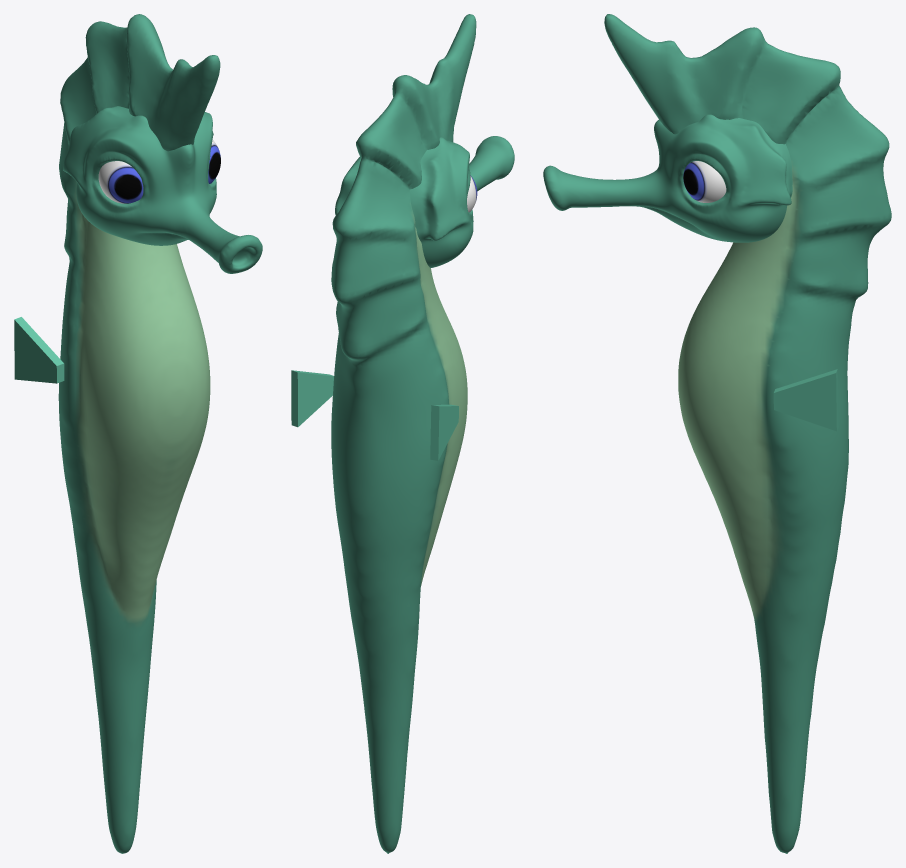
Rendered from Fishes_Little_Seahorse_1_Base.glb.
The picture shows the model from 3 angles, left to right: view 1: azimuth 30°, elevation 25°; view 2: azimuth 150°, elevation 25°; view 3: azimuth 270°, elevation 25°; orthographic projection. The views are drawn at different scales.
Parts seen in each view (by area): view 1: Cylinder.002, Cube.002, Plane.004, Little fish 02 Eyes_Base.001; view 2: Cylinder.002, Cube.002, Plane.004; view 3: Cylinder.002, Cube.002, Plane.004, Little fish 02 Eyes_Base.001.
Boxes of the visible parts, x1,y1,x2,y2 form: Cylinder.002: (58, 14, 220, 853); Cube.002: (63, 106, 262, 273); Plane.004: (14, 317, 64, 383); Little fish 02 Eyes_Base.001: (98, 139, 220, 203); Cylinder.002: (331, 14, 476, 853); Cube.002: (335, 136, 514, 267); Plane.004: (291, 370, 458, 460); Cylinder.002: (604, 14, 891, 853); Cube.002: (543, 114, 792, 242); Plane.004: (773, 369, 838, 431); Little fish 02 Eyes_Base.001: (683, 161, 726, 202).
Size of the model in its own units: 0.0969 by 0.4864 by 0.1832.
